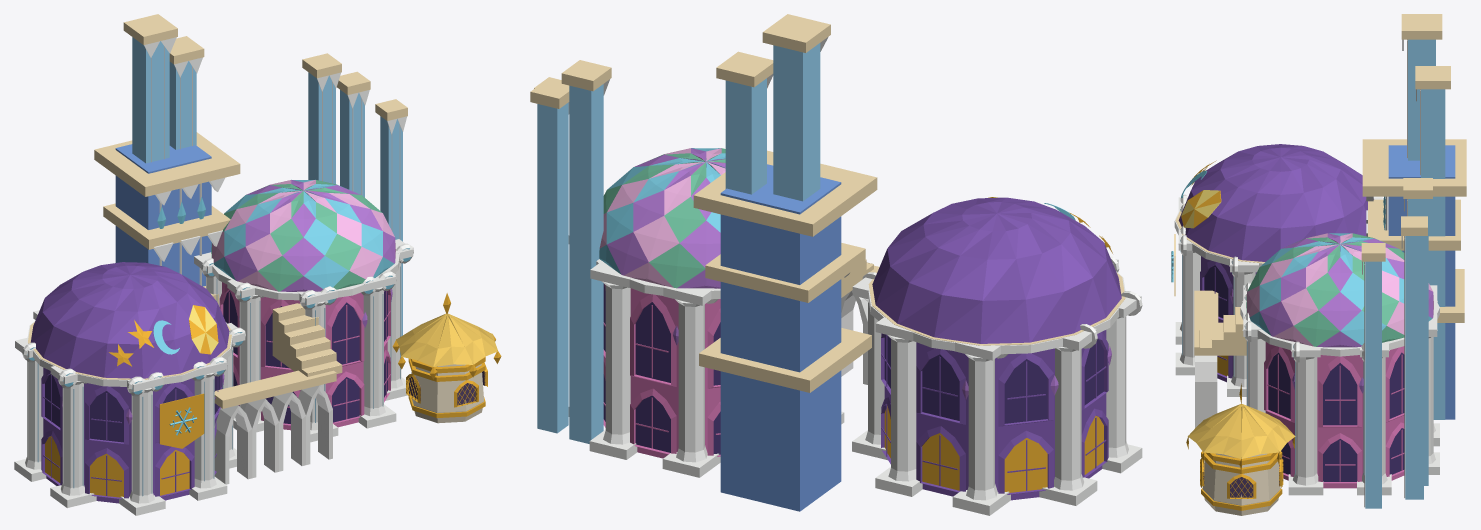
File: building.glb
The picture shows the model from 3 angles, left to right: view 1: azimuth 30°, elevation 25°; view 2: azimuth 150°, elevation 25°; view 3: azimuth 270°, elevation 25°; orthographic projection. The views are drawn at different scales.
Parts seen in each view (by area): view 1: 11_R3B_Factory_DiamondDomesAndSteppedChimneys; view 2: 11_R3B_Factory_DiamondDomesAndSteppedChimneys; view 3: 11_R3B_Factory_DiamondDomesAndSteppedChimneys.
Part boxes in pixels (bbox=[...]): 11_R3B_Factory_DiamondDomesAndSteppedChimneys: bbox=[14, 14, 501, 515]; 11_R3B_Factory_DiamondDomesAndSteppedChimneys: bbox=[530, 14, 1142, 515]; 11_R3B_Factory_DiamondDomesAndSteppedChimneys: bbox=[1171, 14, 1466, 515].
Bounding box in the file's own units: 1.39 × 1.11 × 0.794.
